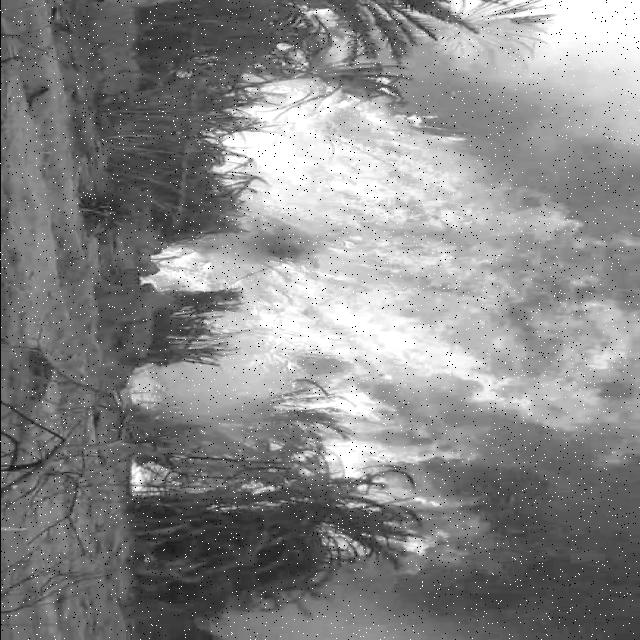api: (242, 204, 640, 449), (231, 144, 497, 198), (239, 82, 407, 140), (385, 500, 510, 573), (313, 434, 439, 482), (151, 248, 214, 292), (125, 461, 197, 489)
asap: (507, 459, 640, 635), (528, 5, 640, 200), (423, 17, 523, 159)
